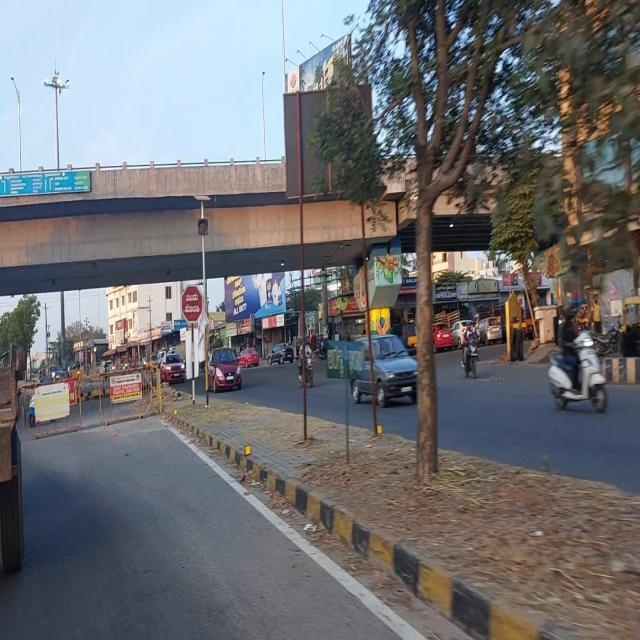bien_nguy_hiem: (179, 280, 203, 323)
